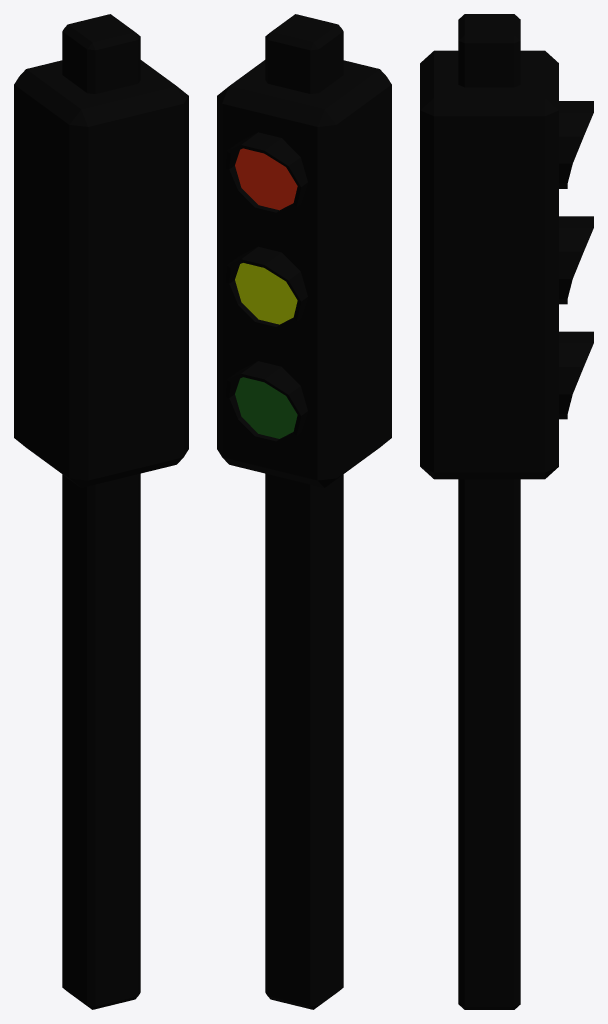
The model's file is parking light.fbx.
3 renders of one model, left to right at view 1: azimuth 30°, elevation 25°; view 2: azimuth 150°, elevation 25°; view 3: azimuth 270°, elevation 25°, orthographic.
Parts seen in each view (by area): view 1: parkibg light; view 2: parkibg light; view 3: parkibg light.
Boxes of the visible parts, x1,y1,x2,y2 form: parkibg light: [14, 14, 188, 1009]; parkibg light: [217, 14, 391, 1009]; parkibg light: [420, 14, 593, 1009].
Size of the model in its own units: 51.69 by 400 by 64.63.
